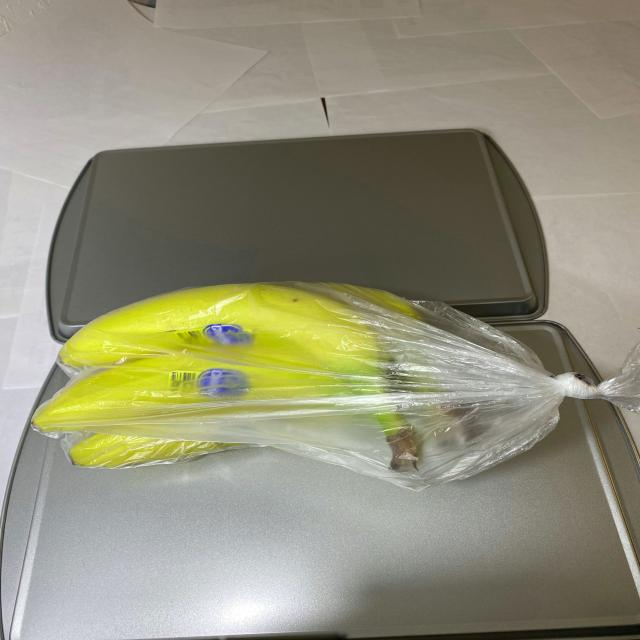banana: (28, 276, 498, 498)
